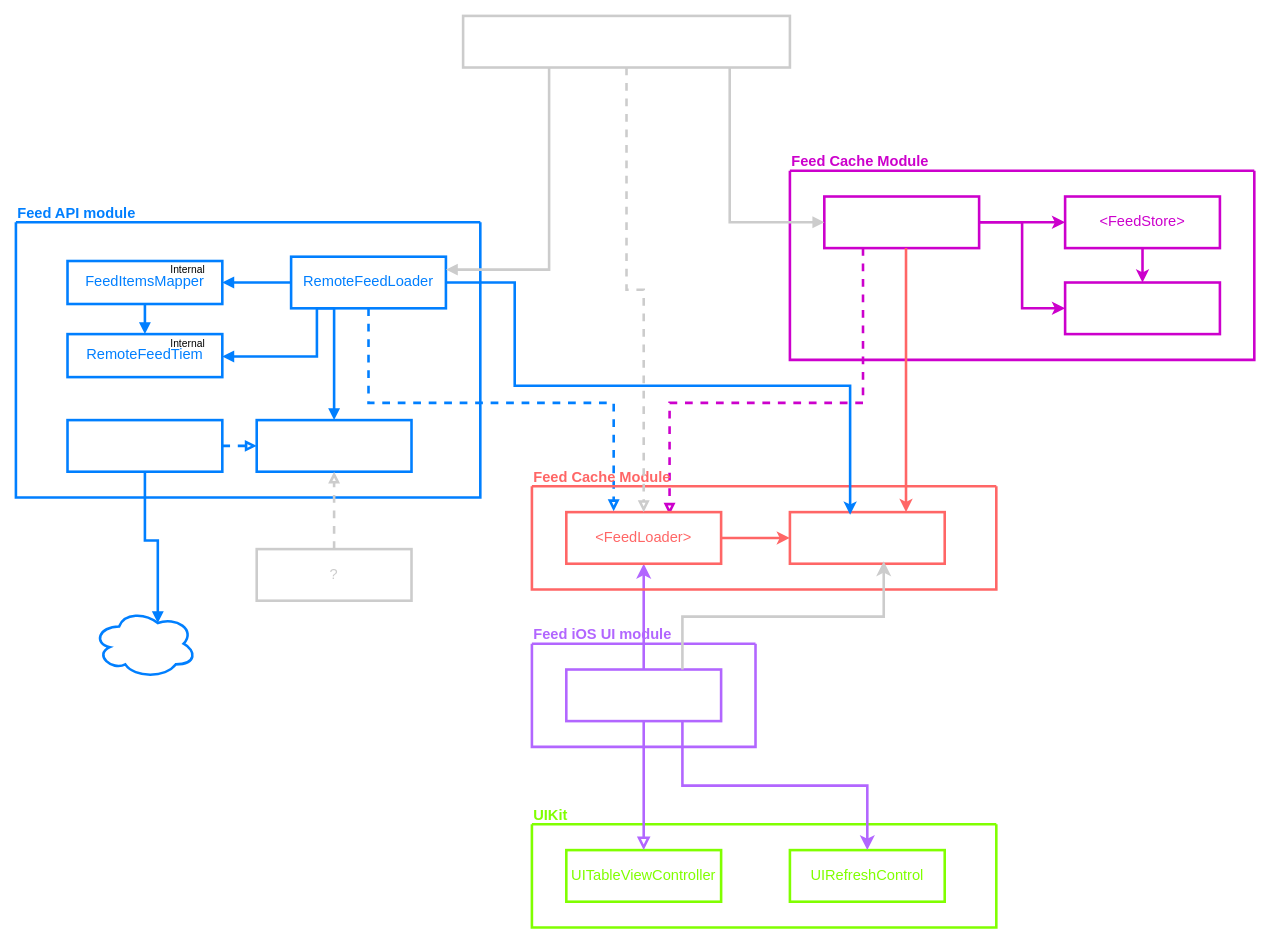
The diagram is 1270 pixels wide and 943 high, and some of its shapes have lost their labels. Each missing label, with the centre of its shape:
"<HTTPClient>" goes at (x=333, y=445).
"FeedImage" goes at (x=867, y=537).
"FeedViewController" goes at (x=643, y=695).
"LocalFeedImage" goes at (x=1142, y=308).
"LocalFeedLoader" goes at (x=901, y=222).
"RemoteWithLocalFallbackFeedLoader" goes at (x=626, y=41).
"URLSessionHTTPClient" goes at (x=144, y=445).
